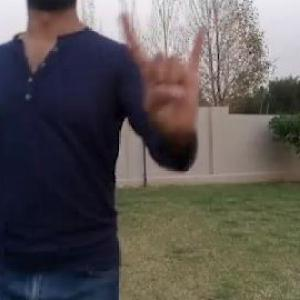takeoff-hand: (120, 9, 212, 137)
